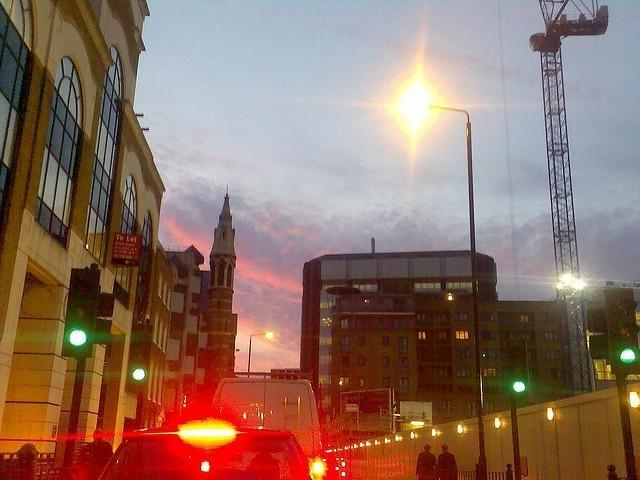car: (92, 428, 312, 480)
truck: (212, 377, 322, 458)
